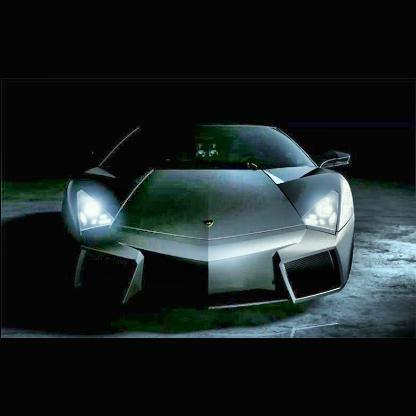Lamborghini Reventon Coupe 2008: (64, 120, 356, 313)
